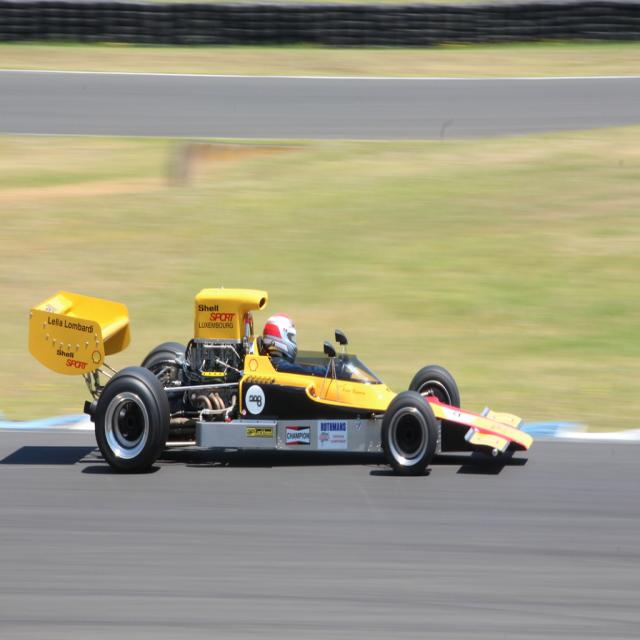car: (31, 288, 534, 475)
